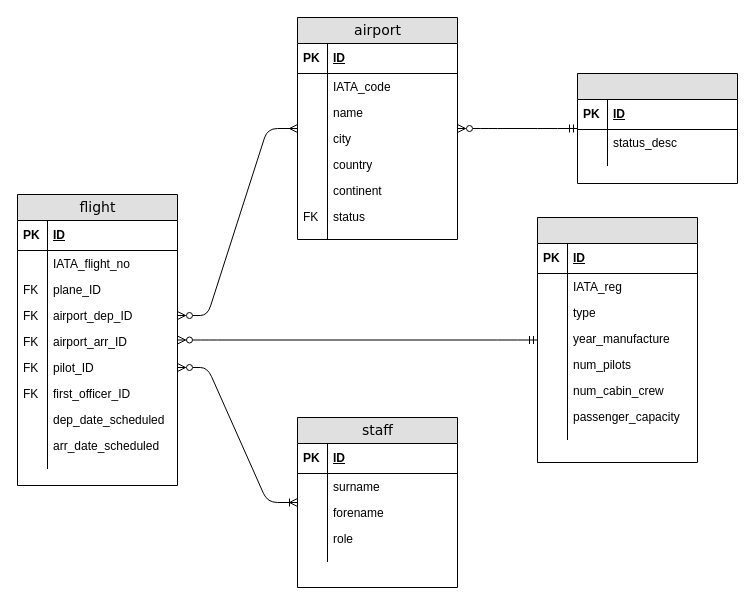
Image size: 755x605. Some labels were removed from this diagram. The box of each missing label's shape, as (x1, y1, x2, y2) in pixels:
airport_status: (576, 72, 738, 184)
plane: (536, 216, 698, 462)
